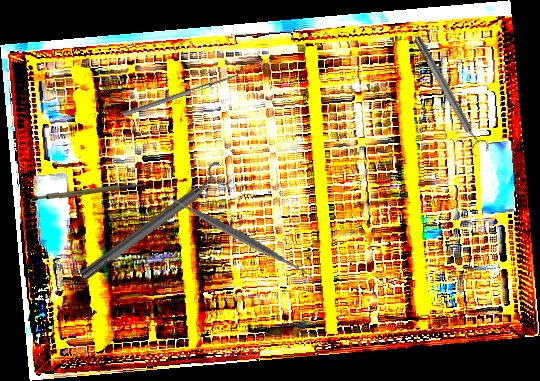Fixation Ring: (73, 159, 234, 288), (408, 31, 492, 160)
Scalpel Handle: (31, 181, 145, 205)
Spatula Surgical: (163, 163, 315, 309), (121, 66, 246, 117)
